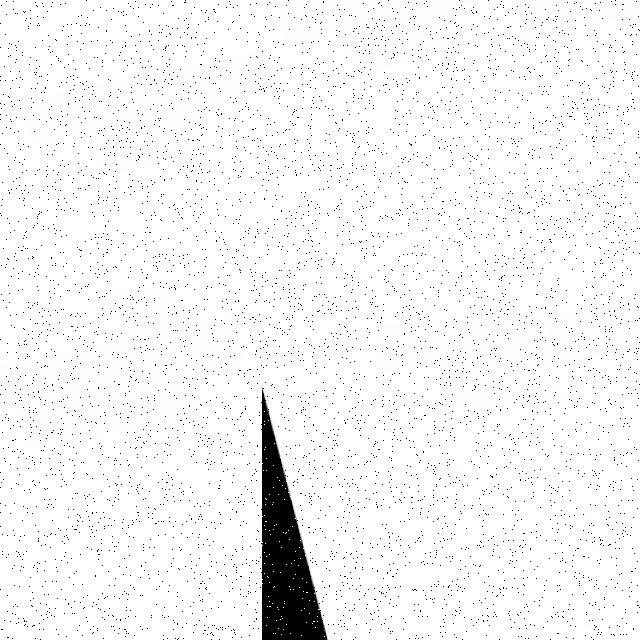drone: (262, 217, 640, 640)
